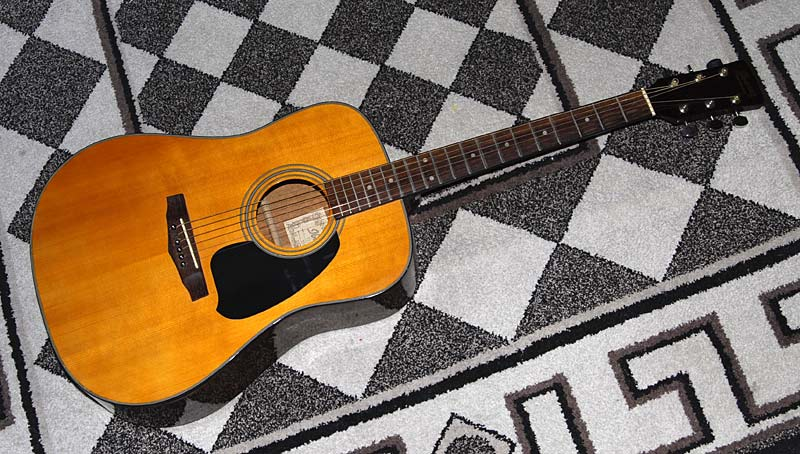guitar: (30, 59, 764, 429)
